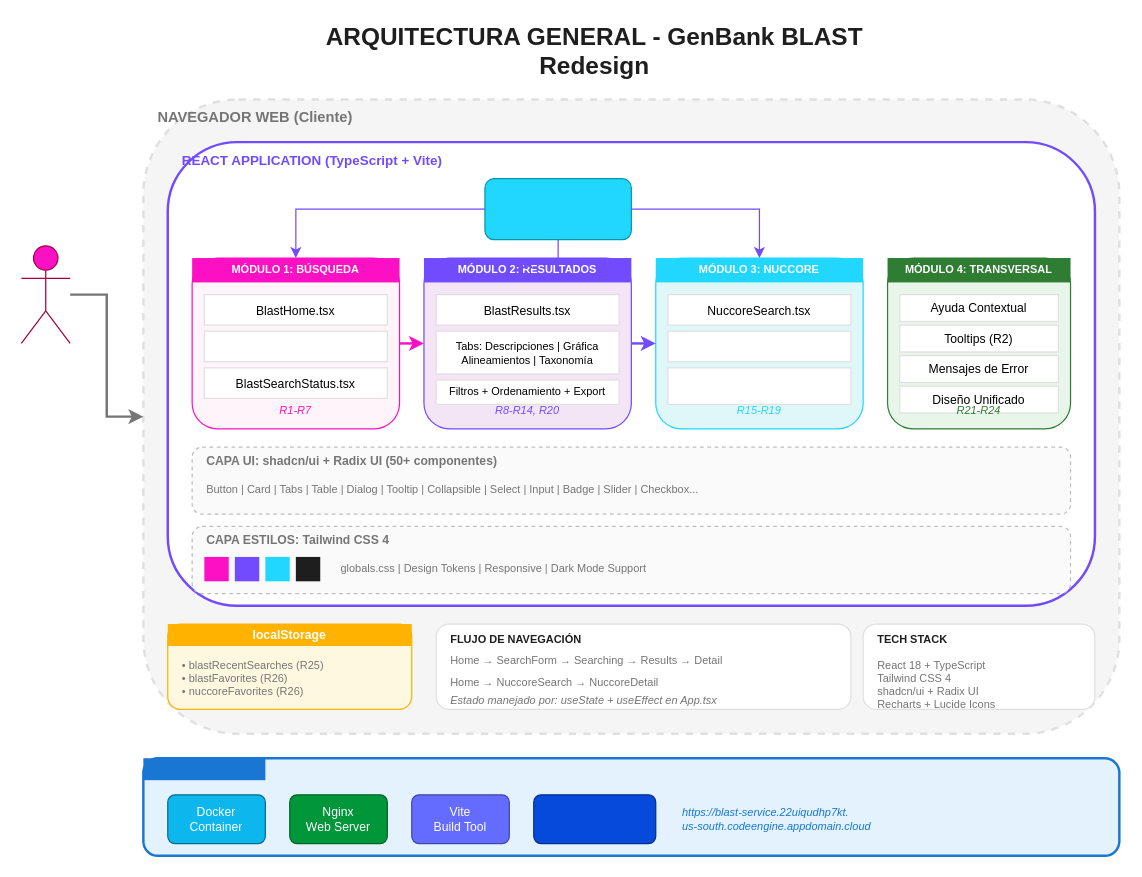
Image size: 1142x877. Some labels were removed from this diagram. Each missing label, with the centre of its shape:
"App.tsx (State Router)" belongs at [557,209].
"BlastSearchForm.tsx" belongs at [295,346].
"DEPLOYMENT" belongs at [204,769].
"IBM Code Engine (Cloud)" belongs at [594,819].
"NuccoreDetail.tsx" belongs at [759,346].
"Secciones Colapsables Metadatos Estructurados" belongs at [759,385].
"Usuario" belongs at [45,294].
